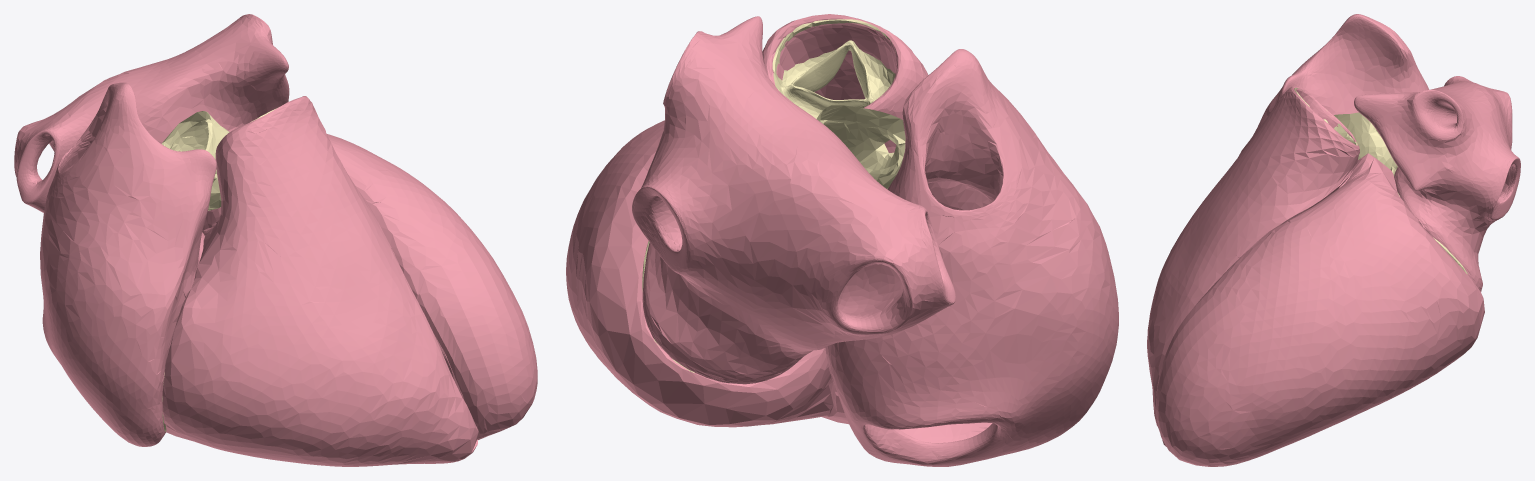
Rendered from organ-heart.glb.
3 views of the same model, side by side, from view 1: azimuth 30°, elevation 25°; view 2: azimuth 150°, elevation 25°; view 3: azimuth 270°, elevation 25° (orthographic). The views are drawn at different scales.
Visible parts, largest first — view 1: heart-right-ventricle, right-cardiac-atrium, heart-left-ventricle, left-cardiac-atrium, aortic-valve; view 2: left-cardiac-atrium, right-cardiac-atrium, heart-left-ventricle, heart-right-ventricle, pulmonary-valve, aortic-valve; view 3: heart-left-ventricle, heart-right-ventricle, left-cardiac-atrium, right-cardiac-atrium, aortic-valve.
Boxes of the visible parts, x1,y1,x2,y2 form: heart-right-ventricle: (162,96,478,466); right-cardiac-atrium: (40,82,216,446); heart-left-ventricle: (202,134,537,439); left-cardiac-atrium: (14,14,289,212); aortic-valve: (161,111,229,210); left-cardiac-atrium: (632,16,955,384); right-cardiac-atrium: (825,49,1118,466); heart-left-ventricle: (566,120,833,427); heart-right-ventricle: (762,14,928,424); pulmonary-valve: (772,19,895,118); aortic-valve: (816,105,905,189); heart-left-ventricle: (1155,153,1484,466); heart-right-ventricle: (1147,86,1359,446); left-cardiac-atrium: (1354,76,1520,291); right-cardiac-atrium: (1238,14,1429,156); aortic-valve: (1334,112,1397,169).
Size of the model in its own units: 0.1243 by 0.1054 by 0.1052.
